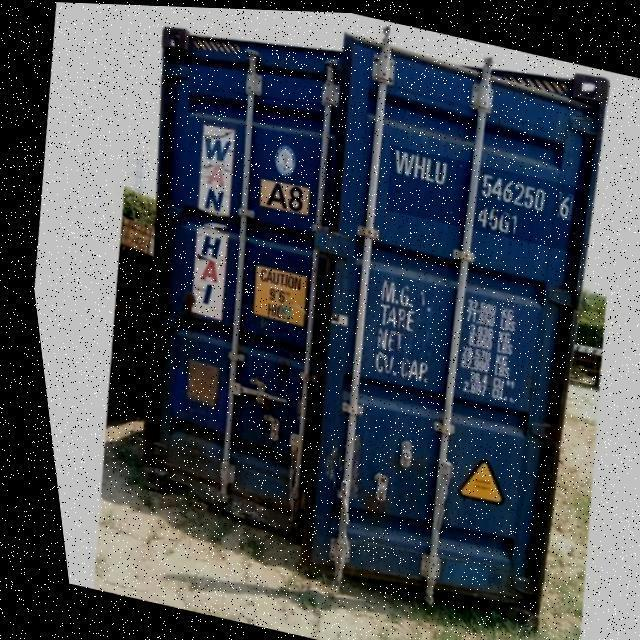container_number_h: (376, 142, 580, 249)
